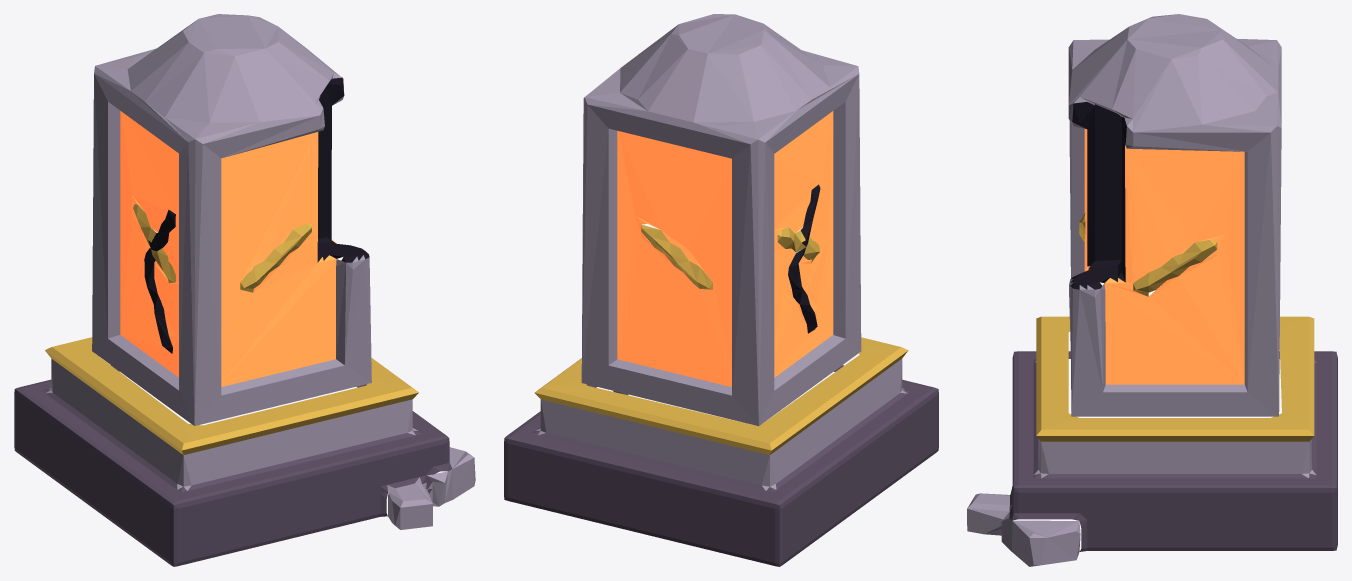
Rendered from ward_pillar_damaged.glb.
3 views of the same model, side by side, from view 1: azimuth 30°, elevation 25°; view 2: azimuth 150°, elevation 25°; view 3: azimuth 270°, elevation 25° (orthographic).
Parts seen in each view (by area): view 1: ward_pillar_damaged; view 2: ward_pillar_damaged; view 3: ward_pillar_damaged.
Part boxes in pixels (<box>): ward_pillar_damaged: <box>14,14,475,566</box>; ward_pillar_damaged: <box>504,14,938,566</box>; ward_pillar_damaged: <box>967,14,1337,566</box>.
Size of the model in its own units: 1.24 by 1.68 by 1.25.
